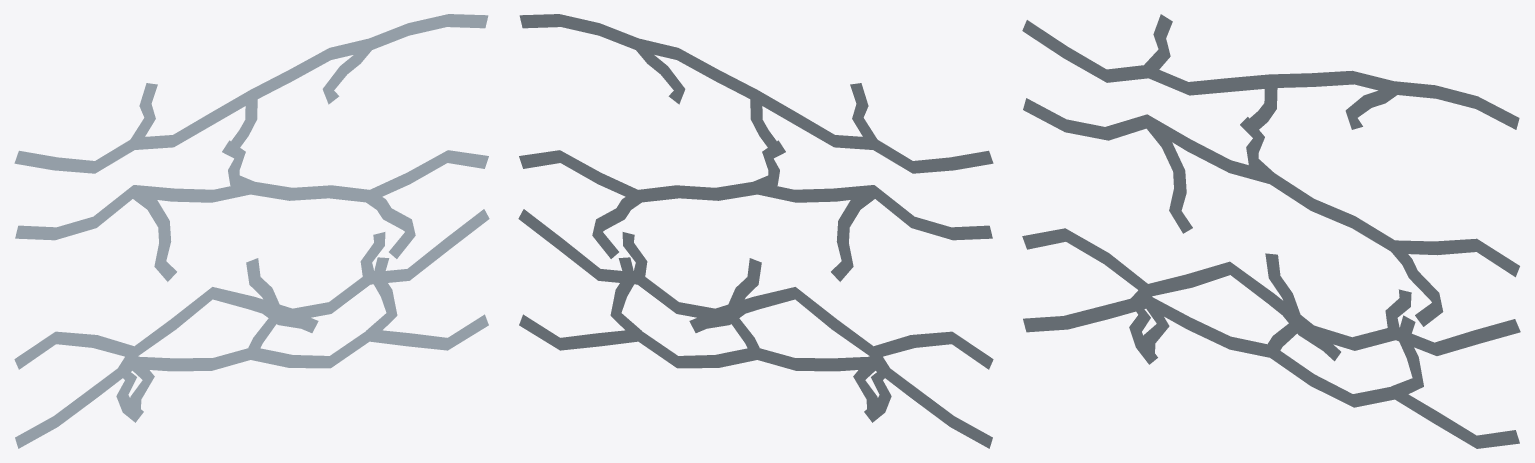
Rendered from 2057_GroundRupture_RuptureDarkNetwork.fbx.
3 views of the same model, side by side, from view 1: azimuth 30°, elevation 25°; view 2: azimuth 150°, elevation 25°; view 3: azimuth 330°, elevation 25° (orthographic). The views are drawn at different scales.
Visible parts, largest first — view 1: PART_RuptureDarkFissure0, PART_RuptureDarkFissure12, PART_RuptureDarkFissure4, PART_RuptureDarkFissure8, PART_RuptureDarkFissure9, PART_RuptureDarkFissure2, PART_RuptureDarkFissure11, PART_RuptureDarkFissure3, PART_RuptureDarkFissure15, PART_RuptureDarkFissure10, PART_RuptureDarkFissure5, PART_RuptureDarkFissure6 (+4 smaller); view 2: PART_RuptureDarkFissure12, PART_RuptureDarkFissure0, PART_RuptureDarkFissure8, PART_RuptureDarkFissure4, PART_RuptureDarkFissure9, PART_RuptureDarkFissure2, PART_RuptureDarkFissure11, PART_RuptureDarkFissure3, PART_RuptureDarkFissure5, PART_RuptureDarkFissure15, PART_RuptureDarkFissure13, PART_RuptureDarkFissure6 (+4 smaller); view 3: PART_RuptureDarkFissure0, PART_RuptureDarkFissure12, PART_RuptureDarkFissure8, PART_RuptureDarkFissure4, PART_RuptureDarkFissure9, PART_RuptureDarkFissure2, PART_RuptureDarkFissure11, PART_RuptureDarkFissure3, PART_RuptureDarkFissure15, PART_RuptureDarkFissure5, PART_RuptureDarkFissure13, PART_RuptureDarkFissure1 (+4 smaller).
Boxes of the visible parts, left/top/right/bottom form: PART_RuptureDarkFissure0: left=15, top=314, right=488, bottom=448; PART_RuptureDarkFissure12: left=14, top=14, right=488, bottom=173; PART_RuptureDarkFissure4: left=14, top=209, right=489, bottom=369; PART_RuptureDarkFissure8: left=15, top=150, right=488, bottom=240; PART_RuptureDarkFissure9: left=131, top=186, right=176, bottom=281; PART_RuptureDarkFissure2: left=246, top=258, right=283, bottom=353; PART_RuptureDarkFissure11: left=365, top=193, right=415, bottom=258; PART_RuptureDarkFissure3: left=366, top=257, right=397, bottom=338; PART_RuptureDarkFissure15: left=322, top=45, right=373, bottom=104; PART_RuptureDarkFissure10: left=222, top=140, right=254, bottom=190; PART_RuptureDarkFissure5: left=116, top=350, right=143, bottom=422; PART_RuptureDarkFissure6: left=249, top=297, right=318, bottom=332; PART_RuptureDarkFissure12: left=519, top=14, right=993, bottom=173; PART_RuptureDarkFissure0: left=519, top=314, right=992, bottom=448; PART_RuptureDarkFissure8: left=519, top=150, right=992, bottom=240; PART_RuptureDarkFissure4: left=518, top=209, right=993, bottom=369; PART_RuptureDarkFissure9: left=831, top=185, right=877, bottom=281; PART_RuptureDarkFissure2: left=724, top=258, right=761, bottom=354; PART_RuptureDarkFissure11: left=592, top=191, right=642, bottom=258; PART_RuptureDarkFissure3: left=610, top=257, right=641, bottom=337; PART_RuptureDarkFissure5: left=864, top=350, right=891, bottom=422; PART_RuptureDarkFissure15: left=635, top=41, right=685, bottom=104; PART_RuptureDarkFissure13: left=850, top=83, right=877, bottom=146; PART_RuptureDarkFissure6: left=689, top=301, right=758, bottom=332; PART_RuptureDarkFissure0: left=1023, top=294, right=1519, bottom=448; PART_RuptureDarkFissure12: left=1022, top=20, right=1519, bottom=129; PART_RuptureDarkFissure8: left=1023, top=98, right=1519, bottom=277; PART_RuptureDarkFissure4: left=1022, top=228, right=1520, bottom=355; PART_RuptureDarkFissure9: left=1145, top=117, right=1192, bottom=233; PART_RuptureDarkFissure2: left=1265, top=253, right=1304, bottom=355; PART_RuptureDarkFissure11: left=1390, top=243, right=1443, bottom=326; PART_RuptureDarkFissure3: left=1391, top=315, right=1423, bottom=398; PART_RuptureDarkFissure15: left=1345, top=82, right=1398, bottom=129; PART_RuptureDarkFissure5: left=1129, top=285, right=1157, bottom=364; PART_RuptureDarkFissure13: left=1144, top=14, right=1172, bottom=76; PART_RuptureDarkFissure1: left=1142, top=299, right=1169, bottom=356.
Size of the model in its own units: 655 by 449 by 7.32e-05.
